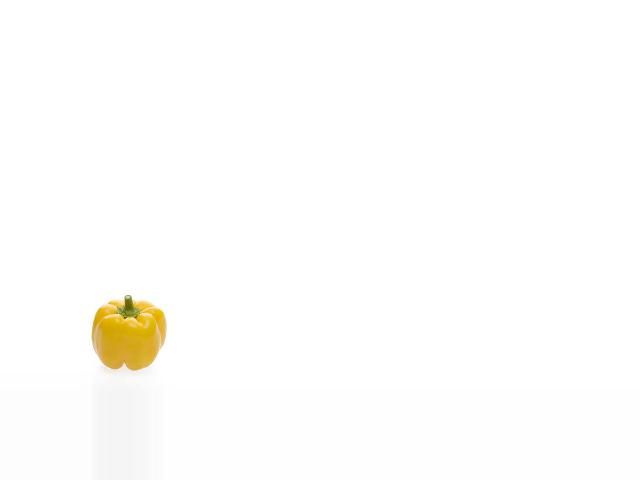bell_pepper: (92, 292, 171, 372)
